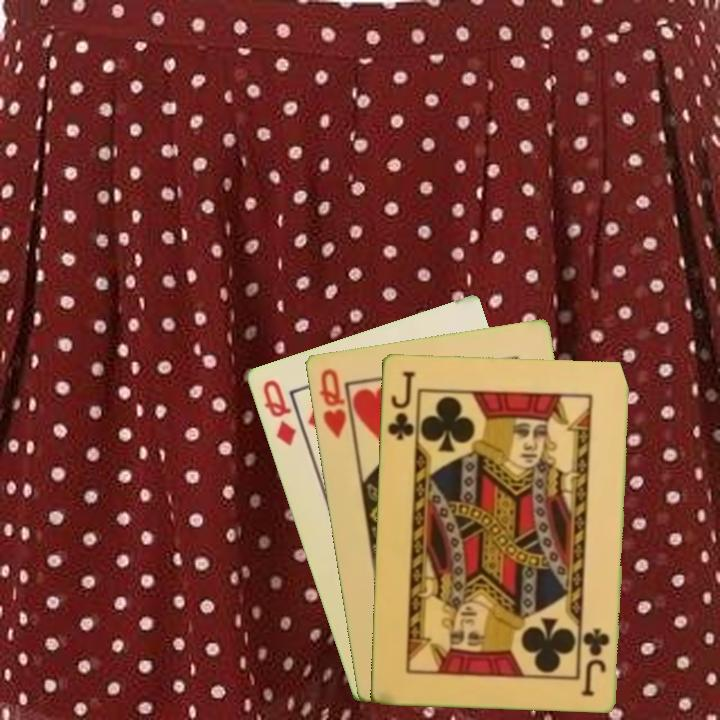Jc: (383, 367, 417, 442), (579, 624, 612, 699)
Qd: (259, 376, 298, 449)
Qh: (315, 364, 355, 443)
